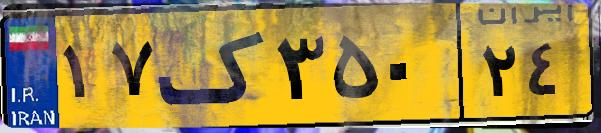0: (385, 28, 445, 110)
1: (57, 26, 110, 100)
2: (475, 38, 525, 113)
3: (270, 28, 330, 110)
4: (525, 38, 570, 115)
5: (330, 28, 385, 110)
7: (110, 28, 158, 98)
ک: (158, 12, 270, 120)
